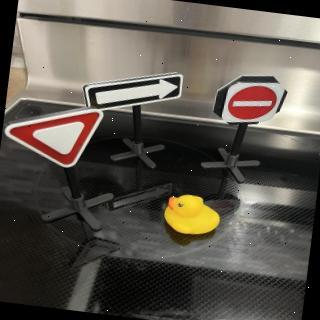duck_regular: (163, 194, 224, 241)
sign_noentry: (220, 76, 289, 133)
sign_oneway_right: (81, 62, 186, 122)
sign_yield: (2, 100, 107, 175)
